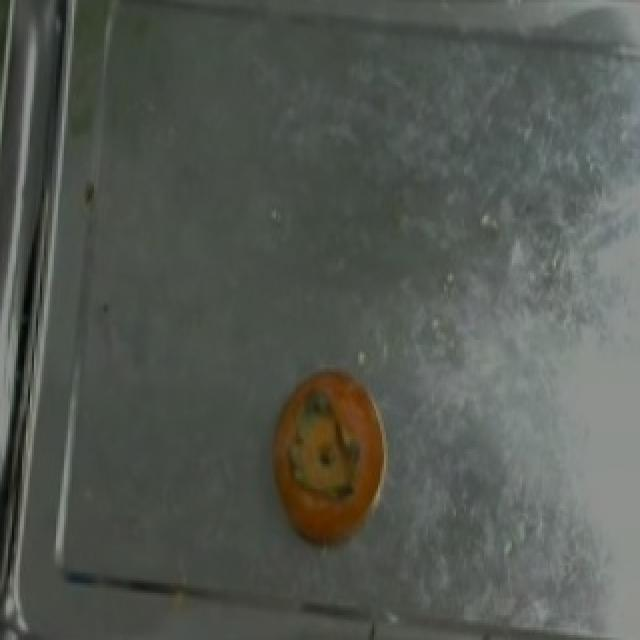Fruit: (262, 354, 410, 556)
